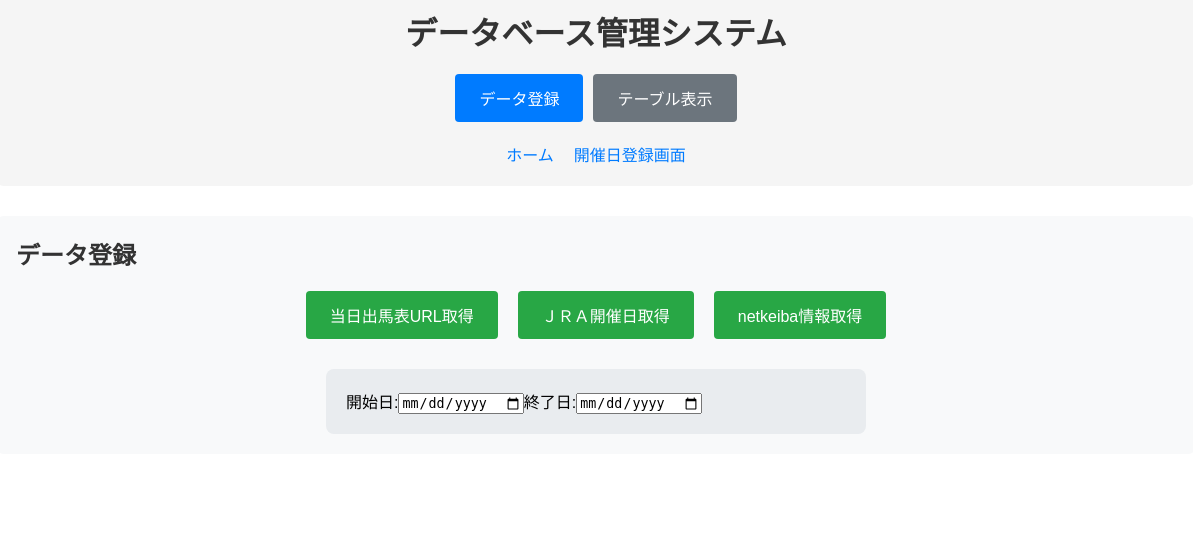
Test: table scrolling › searching a past date displays race cards saved in the database
Click the button "当日出馬表URL取得" at (402, 315), box [306,291,498,339]
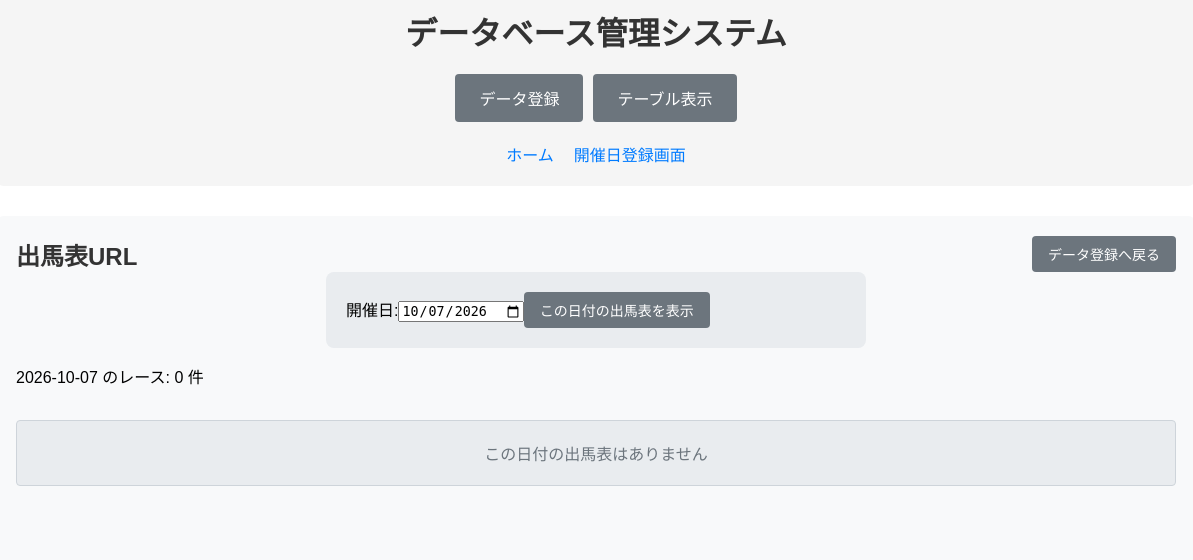
Now the heading "出馬表URL" is shown, box [16,236,137,272]
Type "2025-06-01" into the date field labelled "開催日:" at (461, 311), box [398,301,524,322]
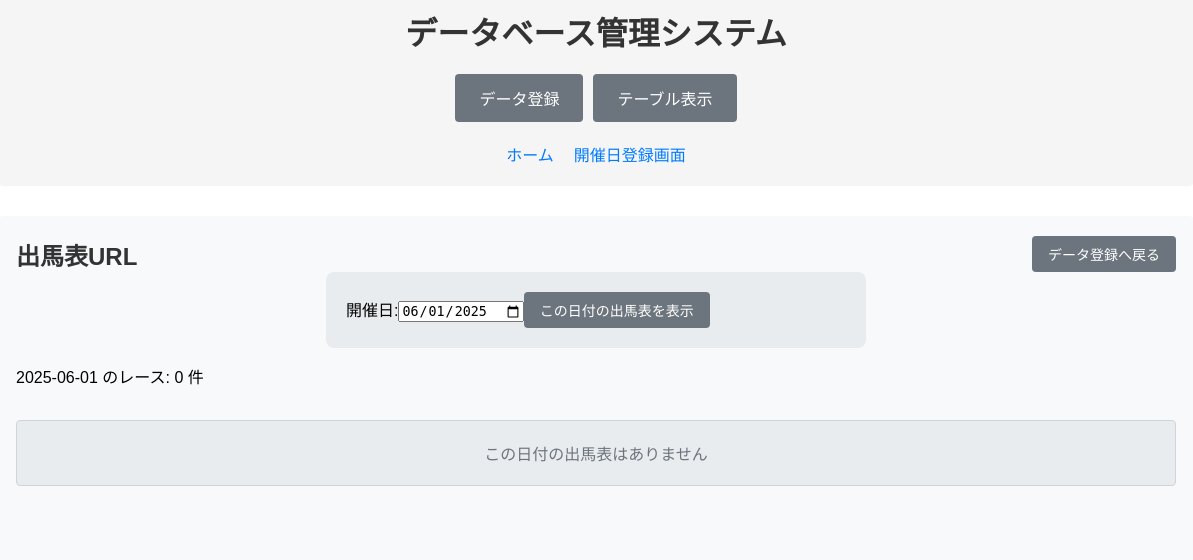
Click the button "この日付の出馬表を表示" at (617, 310), box [524,292,710,328]
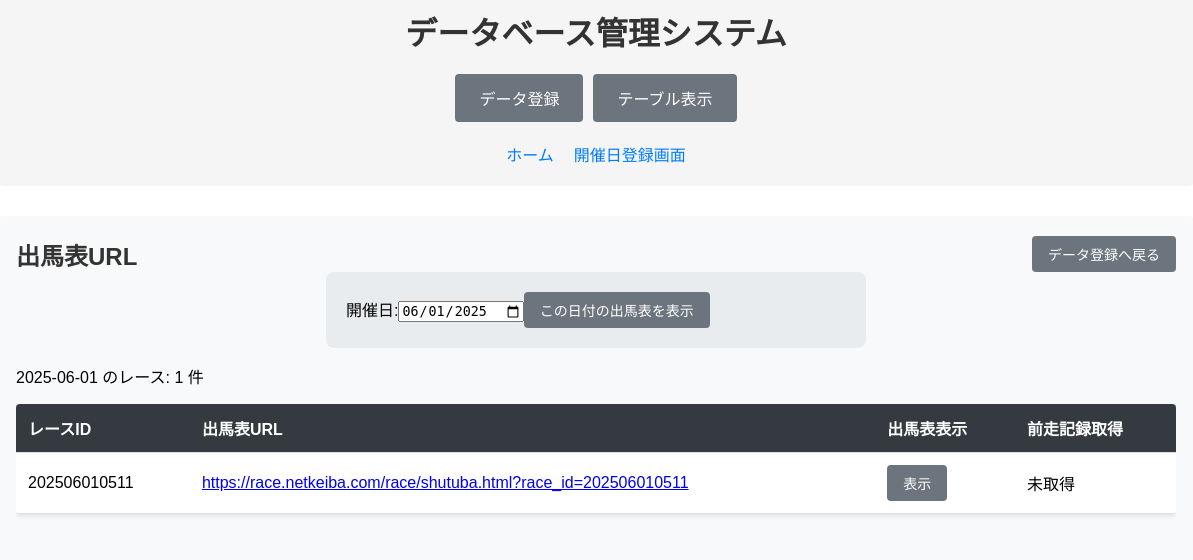
Now the text "202506010511" is shown, box [16,452,190,514]
Click the button "表示" at (917, 483), box [887,465,947,501]
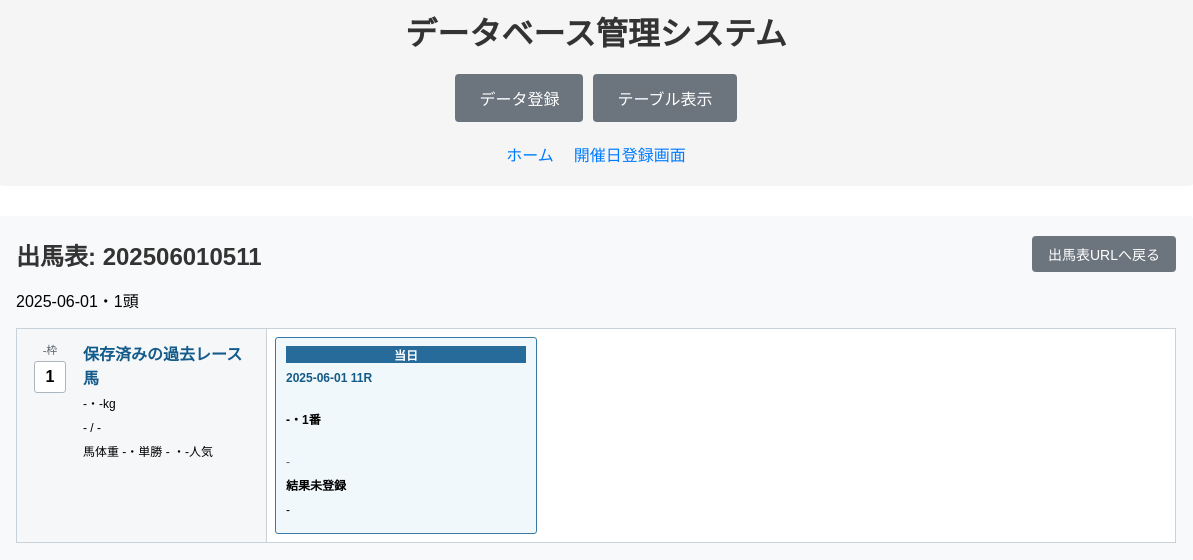
Now the heading "保存済みの過去レース馬" is shown, box [83,341,254,389]
Now the heading "出馬表: 202506010511" is shown, box [16,236,262,272]
